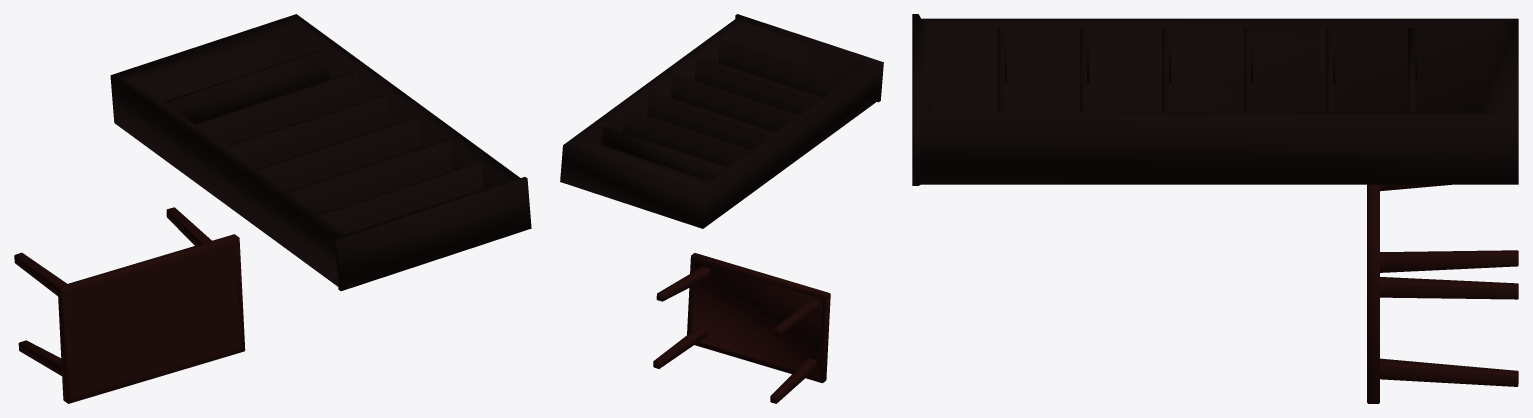
Rendered from scene_0009_diffuse.obj.
3 renders of one model, left to right at view 1: azimuth 30°, elevation 25°; view 2: azimuth 150°, elevation 25°; view 3: azimuth 270°, elevation 25°, orthographic. The views are drawn at different scales.
Parts seen in each view (by area): view 1: diffuse_shelf_02, diffuse_table_01; view 2: diffuse_shelf_02, diffuse_table_01; view 3: diffuse_shelf_02, diffuse_table_01.
Part boxes in pixels (x1,y1,x2,y2): diffuse_shelf_02: (110,14,531,291); diffuse_table_01: (14,207,245,403); diffuse_shelf_02: (560,14,883,228); diffuse_table_01: (653,253,830,403); diffuse_shelf_02: (912,14,1518,185); diffuse_table_01: (1367,184,1518,403).
Size of the model in its own units: 142 by 128 by 189.
